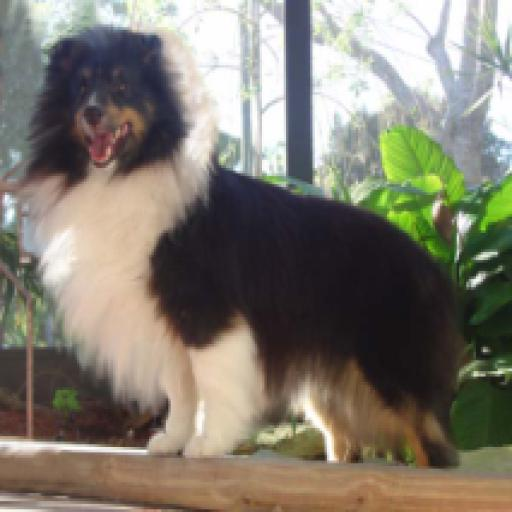dog_face: (33, 27, 179, 173)
